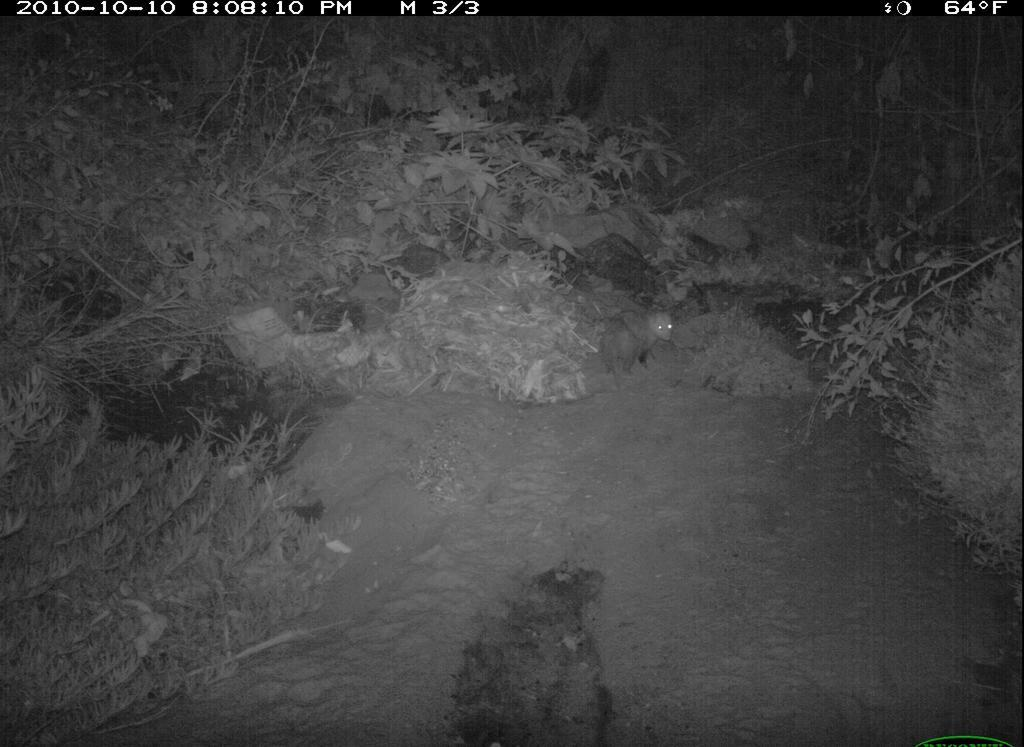opossum: (591, 290, 683, 382)
